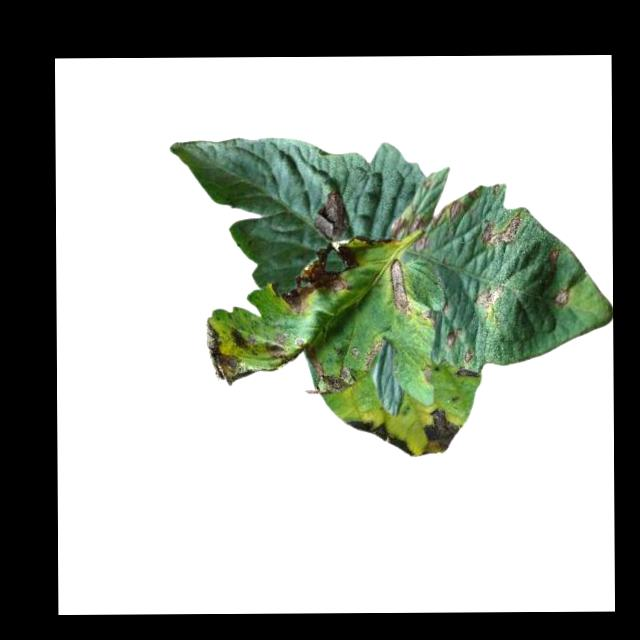Early_blight: (280, 237, 382, 315), (305, 344, 377, 397), (204, 320, 252, 385), (345, 416, 414, 456), (418, 405, 462, 456), (313, 187, 349, 239), (385, 257, 412, 314), (480, 212, 522, 247), (393, 213, 428, 252), (264, 329, 295, 366), (230, 321, 257, 353), (475, 284, 504, 308), (453, 366, 479, 381), (553, 289, 571, 308), (546, 246, 561, 264), (447, 198, 460, 217), (446, 328, 457, 345), (462, 349, 474, 362)
